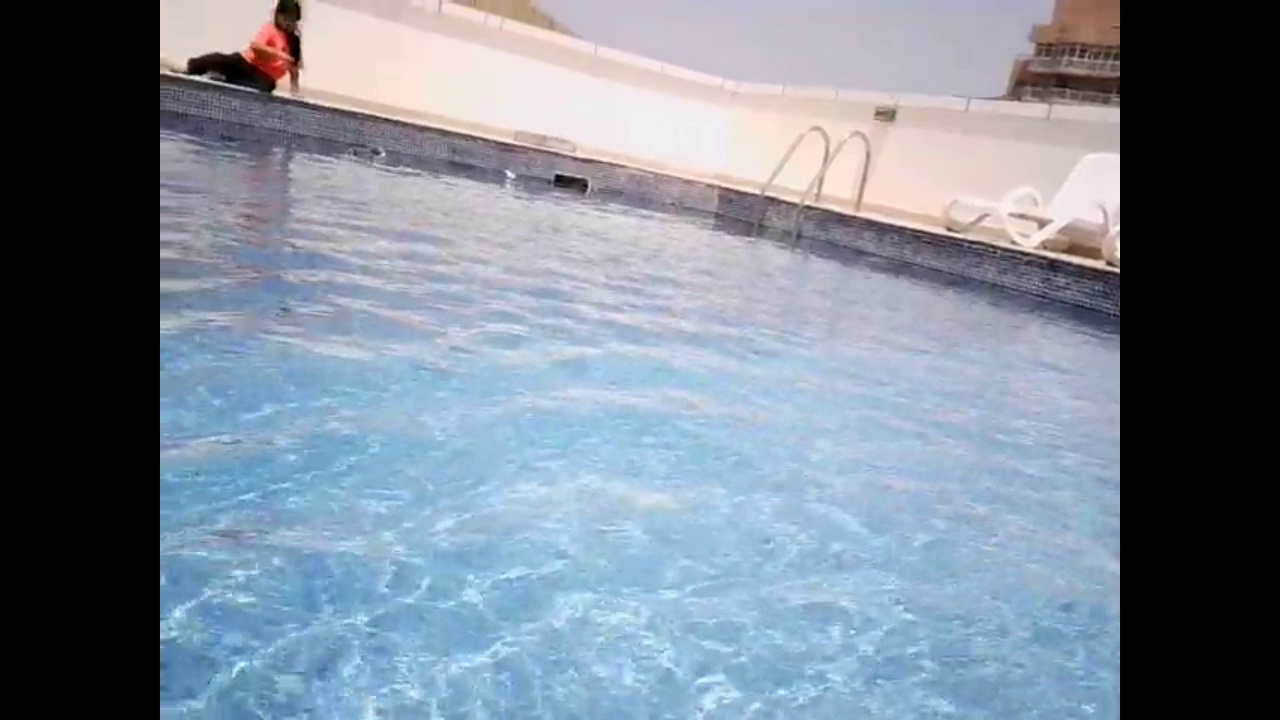debris: (361, 142, 389, 162), (499, 166, 520, 184)
